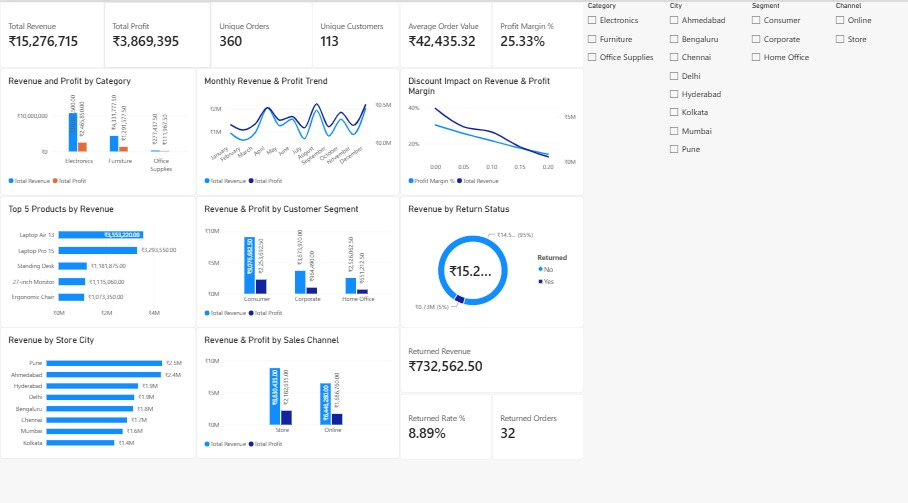

This screenshot's page, from the dashboard's own definition file:
{"tool":"powerbi","page":{"name":"Page 2","canvas":[1920,1080],"ordinal":1},"visuals":[{"type":"cardVisual","fields":{"Data":["DimCustomersTable.Total Revenue"]},"box":[0,0,215,136.7],"z":0},{"type":"cardVisual","fields":{"Data":["DimCustomersTable.Total Profit"]},"box":[215,0,220,136.7],"z":1000},{"type":"cardVisual","fields":{"Data":["DimCustomersTable.Unique Orders"]},"box":[435,0,210,136.7],"z":2000},{"type":"cardVisual","fields":{"Data":["DimCustomersTable.Unique Customers"]},"box":[645,0,180,136.7],"z":3000},{"type":"cardVisual","fields":{"Data":["DimCustomersTable.Average Order Value"]},"box":[825,0,190,136.7],"z":4000},{"type":"cardVisual","fields":{"Data":["DimCustomersTable.Profit Margin %"]},"box":[1015,0,190,136.7],"z":5000},{"type":"clusteredColumnChart","title":"Revenue and Profit by Category","fields":{"Category":["DimProducts.Category"],"Y":["DimCustomersTable.Total Revenue","DimCustomersTable.Total Profit"]},"box":[0,136.7,405,263.3],"z":6000},{"type":"clusteredBarChart","title":"Top 5 Products by Revenue","fields":{"Category":["DimProducts.ProductName"],"Y":["DimCustomersTable.Total Revenue"]},"box":[0,400,405,271.7],"z":7000},{"type":"actionButton","box":[0,0,100,40],"z":8000},{"type":"clusteredBarChart","title":"Revenue by  Store City","fields":{"Category":["DimStoresTable.City"],"Y":["DimCustomersTable.Total Revenue"]},"box":[0,671.7,405,271.7],"z":9000},{"type":"lineChart","title":"Monthly Revenue & Profit Trend","fields":{"Category":["FactSalesTable.OrderDate.Variation.Date Hierarchy.Month"],"Y":["DimCustomersTable.Total Revenue"],"Y2":["DimCustomersTable.Total Profit"]},"box":[405,136.7,420,263.3],"z":9001},{"type":"clusteredColumnChart","title":"Revenue & Profit by Customer Segment","fields":{"Category":["DimCustomersTable.Segment"],"Y":["DimCustomersTable.Total Revenue","DimCustomersTable.Total Profit"]},"box":[405,400,420,271.7],"z":9002},{"type":"clusteredColumnChart","title":"Revenue & Profit by Sales Channel","fields":{"Category":["FactSalesTable.Channel"],"Y":["DimCustomersTable.Total Revenue","DimCustomersTable.Total Profit"]},"box":[405,671.7,420,271.7],"z":9003},{"type":"lineChart","title":"Discount Impact on Revenue & Profit Margin","fields":{"Category":["FactSalesTable.DiscountPct"],"Y":["DimCustomersTable.Profit Margin %"],"Y2":["DimCustomersTable.Total Revenue"]},"box":[825,136.7,380,263.3],"z":9004},{"type":"donutChart","title":"Revenue by Return Status","fields":{"Category":["FactSalesTable.Returned"],"Y":["DimCustomersTable.Total Revenue"]},"box":[825,400,380,272],"z":9005},{"type":"cardVisual","fields":{"Data":["DimCustomersTable.Returned Revenue"]},"box":[825,671.7,380,136.7],"z":9006},{"type":"cardVisual","fields":{"Data":["DimCustomersTable.Returned Orders"]},"box":[1015,808.3,190,136.7],"z":9007},{"type":"cardVisual","fields":{"Data":["DimCustomersTable.Returned Rate %"]},"box":[825,808.3,190,135],"z":9008},{"type":"slicer","fields":{"Values":["DimProducts.Category"]},"box":[1205,0,170,242.5],"z":9009},{"type":"slicer","fields":{"Values":["DimStoresTable.City"]},"box":[1375,0,170,357.5],"z":9010},{"type":"slicer","fields":{"Values":["DimCustomersTable.Segment"]},"box":[1545,0,172.5,225],"z":9011},{"type":"slicer","fields":{"Values":["FactSalesTable.Channel"]},"box":[1717.5,0,202.5,225],"z":9012}]}

Visuals, with their boxes in screenshot pixels (x1, y1, x2, y2), scaled from the page's 1920x1080 canvas onto the 908x503 screenshot:
cardVisual - DimCustomersTable.Total Revenue: rect(0, 0, 102, 64)
cardVisual - DimCustomersTable.Total Profit: rect(102, 0, 206, 64)
cardVisual - DimCustomersTable.Unique Orders: rect(206, 0, 305, 64)
cardVisual - DimCustomersTable.Unique Customers: rect(305, 0, 390, 64)
cardVisual - DimCustomersTable.Average Order Value: rect(390, 0, 480, 64)
cardVisual - DimCustomersTable.Profit Margin %: rect(480, 0, 570, 64)
"Revenue and Profit by Category" clusteredColumnChart: rect(0, 64, 192, 186)
"Top 5 Products by Revenue" clusteredBarChart: rect(0, 186, 192, 313)
actionButton: rect(0, 0, 47, 19)
"Revenue by  Store City" clusteredBarChart: rect(0, 313, 192, 439)
"Monthly Revenue & Profit Trend" lineChart: rect(192, 64, 390, 186)
"Revenue & Profit by Customer Segment" clusteredColumnChart: rect(192, 186, 390, 313)
"Revenue & Profit by Sales Channel" clusteredColumnChart: rect(192, 313, 390, 439)
"Discount Impact on Revenue & Profit Margin" lineChart: rect(390, 64, 570, 186)
"Revenue by Return Status" donutChart: rect(390, 186, 570, 313)
cardVisual - DimCustomersTable.Returned Revenue: rect(390, 313, 570, 377)
cardVisual - DimCustomersTable.Returned Orders: rect(480, 376, 570, 440)
cardVisual - DimCustomersTable.Returned Rate %: rect(390, 376, 480, 439)
slicer - DimProducts.Category: rect(570, 0, 650, 113)
slicer - DimStoresTable.City: rect(650, 0, 731, 167)
slicer - DimCustomersTable.Segment: rect(731, 0, 812, 105)
slicer - FactSalesTable.Channel: rect(812, 0, 907, 105)
